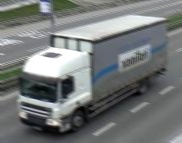truck: (14, 15, 169, 135)
